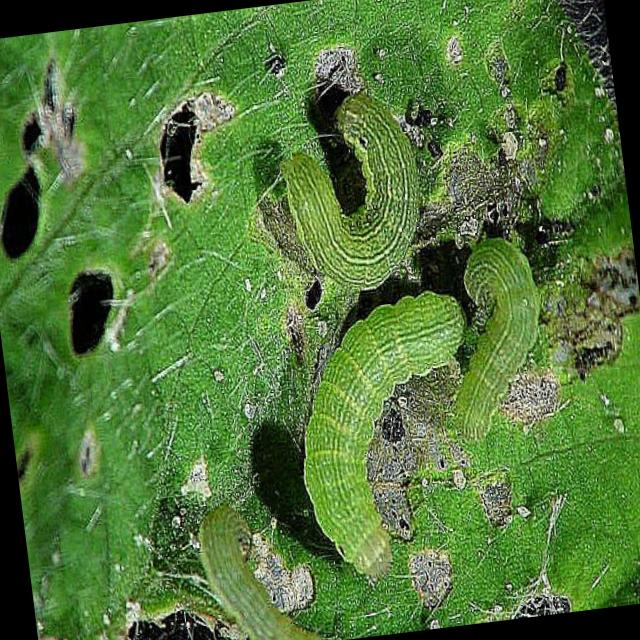Armyworm: (280, 266, 479, 592), (242, 83, 445, 305), (436, 204, 572, 509), (165, 485, 352, 640)
Armyworm_damage: (127, 54, 246, 258), (43, 242, 145, 370), (1, 151, 64, 292), (7, 64, 86, 170)
